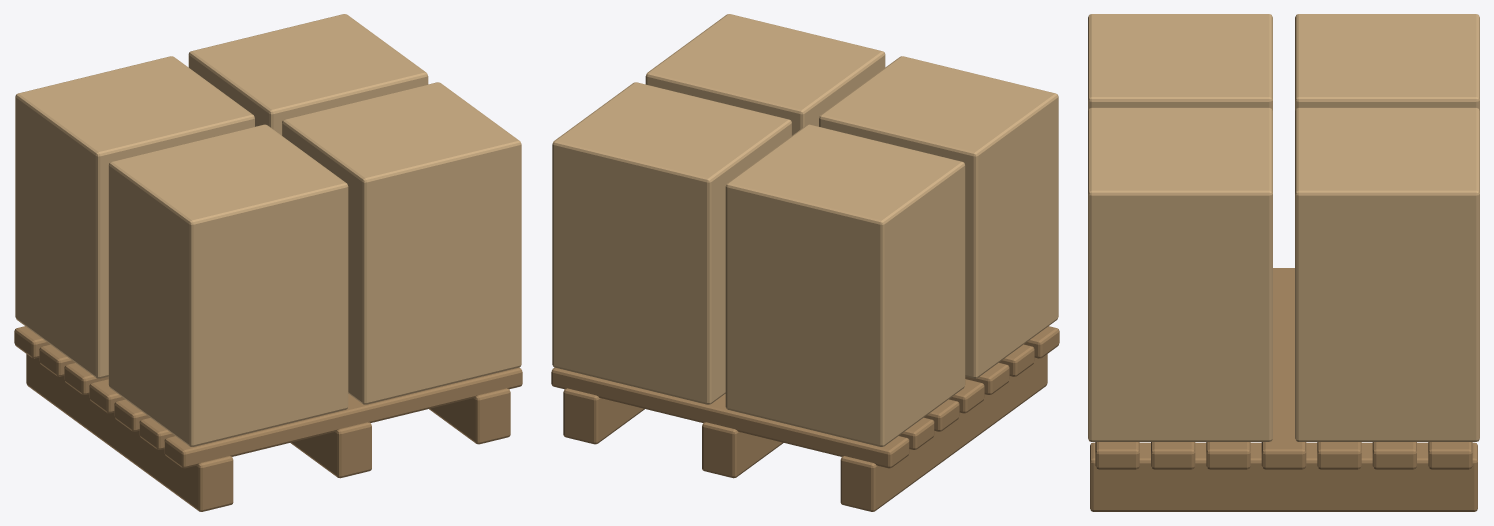
Rendered from loaded-pallet.glb.
3 renders of one model, left to right at view 1: azimuth 30°, elevation 25°; view 2: azimuth 150°, elevation 25°; view 3: azimuth 270°, elevation 25°, orthographic. The views are drawn at different scales.
Parts seen in each view (by area): view 1: Pallet runner; view 2: Pallet runner; view 3: Pallet runner.
Boxes of the visible parts, x1,y1,x2,y2 form: Pallet runner: (14, 14, 522, 511); Pallet runner: (551, 14, 1059, 511); Pallet runner: (1088, 14, 1479, 511).
Bounding box in the file's own units: 1.18 × 0.975 × 1.06.
